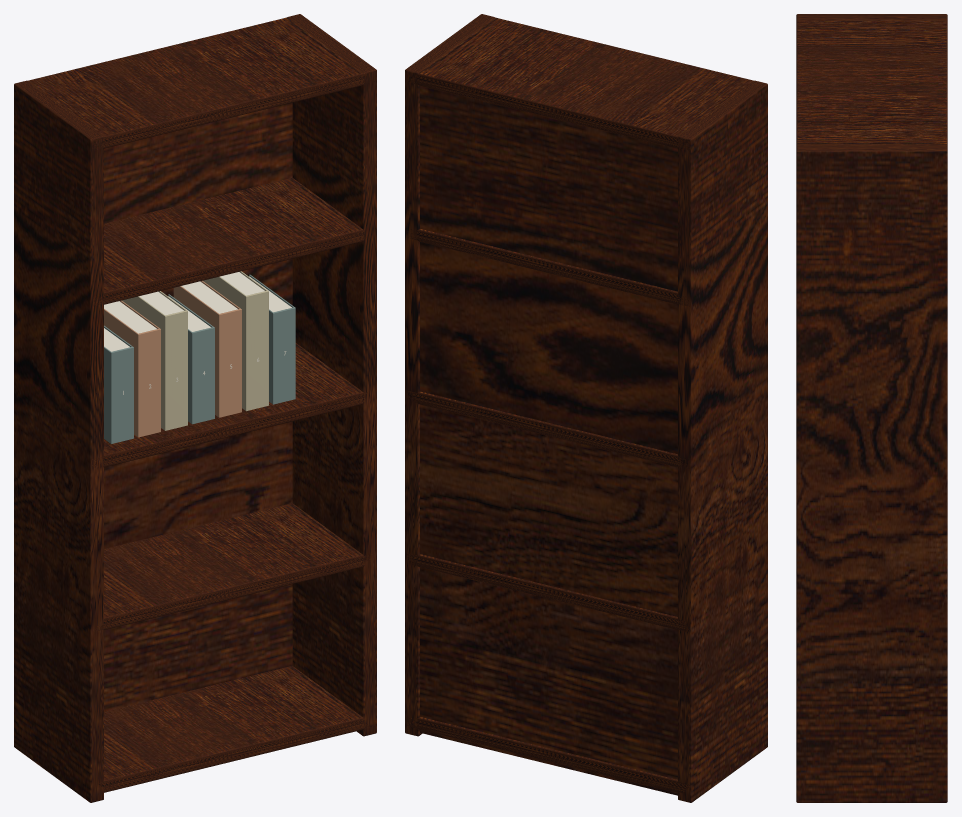
The model's file is shelf.gltf.
3 renders of one model, left to right at view 1: azimuth 30°, elevation 25°; view 2: azimuth 150°, elevation 25°; view 3: azimuth 270°, elevation 25°, orthographic.
Visible parts, largest first — view 1: Bookcase side, Bookcase back, Bookcase side.001, Shelf.004, Shelf.001, Shelf, Shelf.003, Shelf.002, Book spine.002, Book spine.005, Book spine.001, Book spine.004 (+10 smaller); view 2: Bookcase back, Bookcase side, Shelf.004, Bookcase side.001, Shelf.001, Shelf.002, Shelf.003, Shelf; view 3: Bookcase side.001, Shelf.004, Bookcase side.
Boxes of the visible parts, x1=… form: Bookcase side: x1=14, y1=80, x2=103, y2=802; Bookcase back: x1=104, y1=102, x2=292, y2=711; Bookcase side.001: x1=287, y1=14, x2=376, y2=736; Shelf.004: x1=28, y1=17, x2=373, y2=149; Shelf.001: x1=94, y1=503, x2=374, y2=631; Shelf: x1=98, y1=666, x2=371, y2=792; Shelf.003: x1=93, y1=177, x2=364, y2=305; Shelf.002: x1=93, y1=343, x2=368, y2=468; Book spine.002: x1=164, y1=310, x2=187, y2=430; Book spine.005: x1=245, y1=290, x2=268, y2=411; Book spine.001: x1=137, y1=328, x2=160, y2=437; Book spine.004: x1=218, y1=308, x2=241, y2=417; Bookcase back: x1=420, y1=86, x2=677, y2=795; Bookcase side: x1=678, y1=80, x2=767, y2=802; Shelf.004: x1=407, y1=17, x2=753, y2=150; Bookcase side.001: x1=405, y1=14, x2=494, y2=736; Shelf.001: x1=406, y1=553, x2=689, y2=631; Shelf.002: x1=406, y1=390, x2=689, y2=467; Shelf.003: x1=407, y1=228, x2=689, y2=306; Shelf: x1=407, y1=717, x2=689, y2=793; Bookcase side.001: x1=796, y1=144, x2=947, y2=802; Shelf.004: x1=796, y1=20, x2=947, y2=145; Bookcase side: x1=796, y1=14, x2=947, y2=20.
Bounding box in the file's own units: 0.905 × 2 × 0.42.
Materials: 9 (1 with a texture image).
